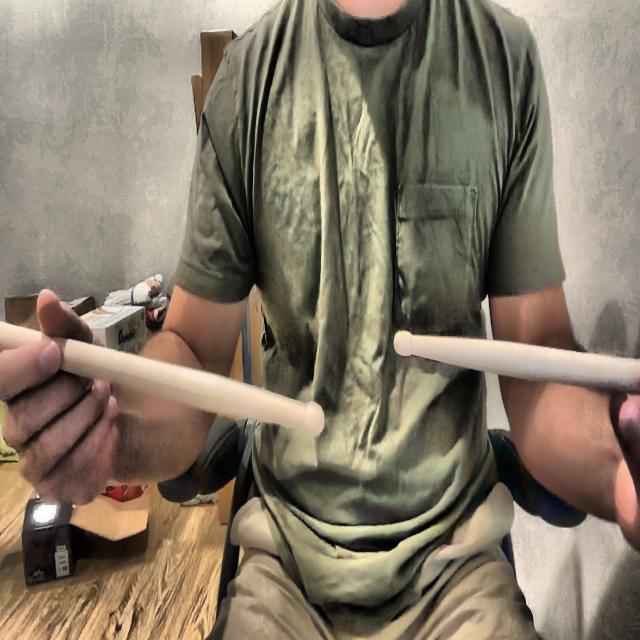Drumstick-Heads: (300, 388, 328, 442), (390, 321, 417, 362)
